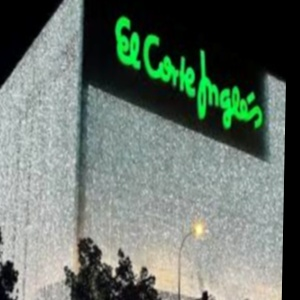corte_ingles: (171, 77, 286, 104)
